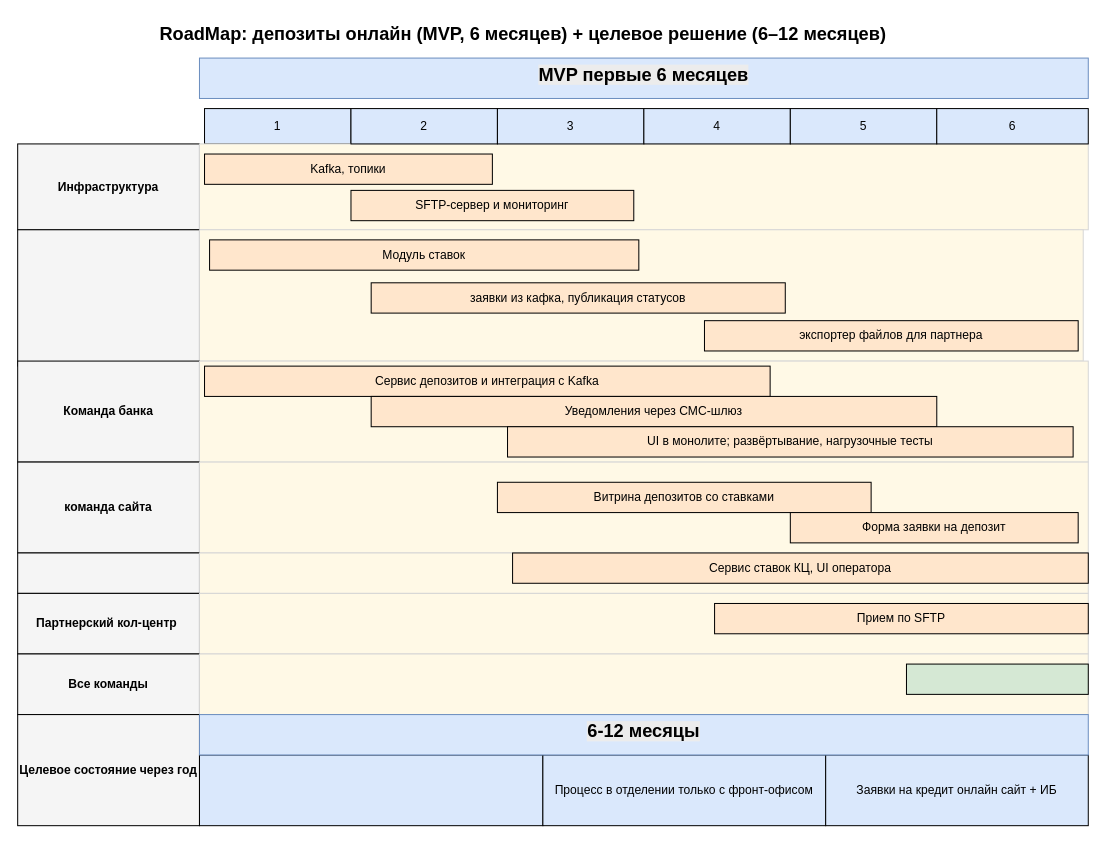
Some shapes in this 1106 by 843 pixel diagram are drawn without their labels. Each missing label, with the box of its shape:
АБС: (17, 229, 199, 366)
Автоматическое открытие депозита без бэк-офиса: (198, 754, 543, 826)
запуск MVP: (905, 663, 1088, 694)
Система кол-центра (Java-специалисты банка): (17, 552, 199, 593)
